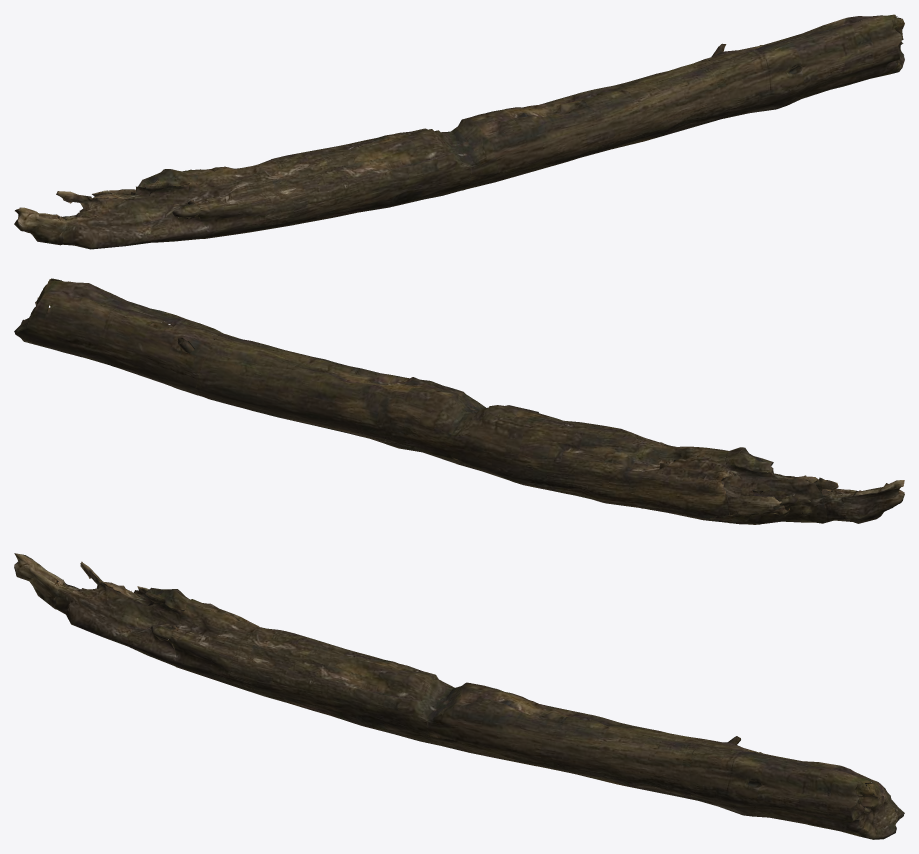
The model's file is deadlog.glb.
3 views of the same model, one above another, from view 1: azimuth 30°, elevation 25°; view 2: azimuth 150°, elevation 25°; view 3: azimuth 330°, elevation 25° (orthographic).
Visible parts, largest first — view 1: dead_tree_trunk; view 2: dead_tree_trunk; view 3: dead_tree_trunk.
Boxes of the visible parts, left/top/right/bottom form: dead_tree_trunk: left=14, top=14, right=904, bottom=249; dead_tree_trunk: left=14, top=278, right=904, bottom=524; dead_tree_trunk: left=14, top=553, right=904, bottom=839.
Bounding box in the file's own units: 3.05 × 0.2898 × 0.275.
1 material, 1 textured.
